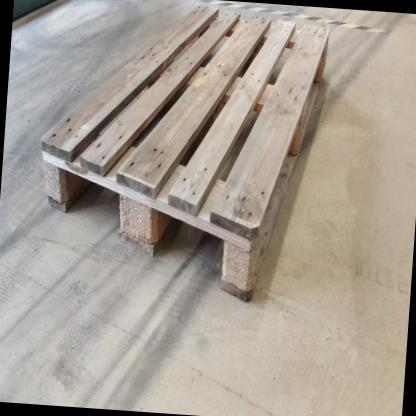BoxFace: (39, 2, 332, 307)
